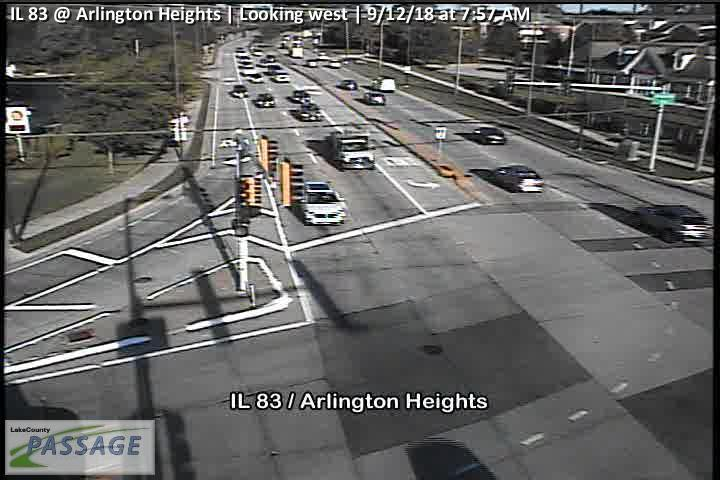Sedan: (633, 202, 711, 244), (494, 166, 544, 193), (471, 126, 507, 145), (299, 104, 323, 121), (363, 92, 386, 106), (293, 90, 316, 104), (256, 93, 276, 108), (273, 69, 291, 82), (341, 79, 358, 89)
Truck: (299, 182, 347, 226), (332, 128, 376, 171)
